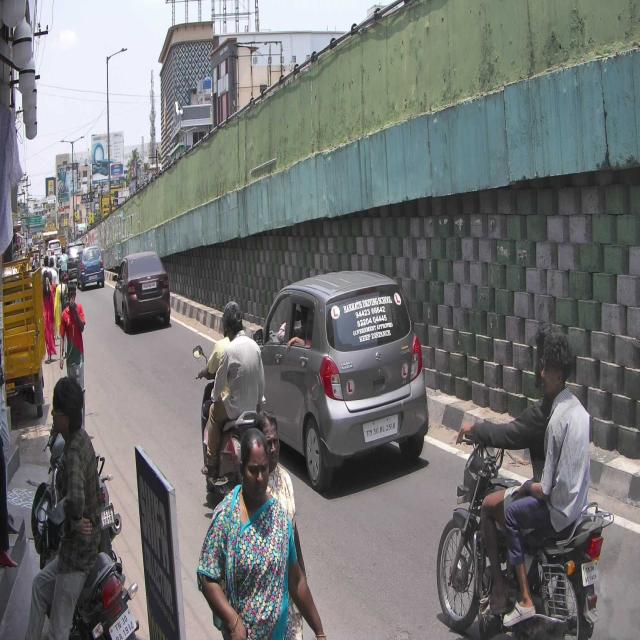double_rider: (435, 314, 613, 640)
